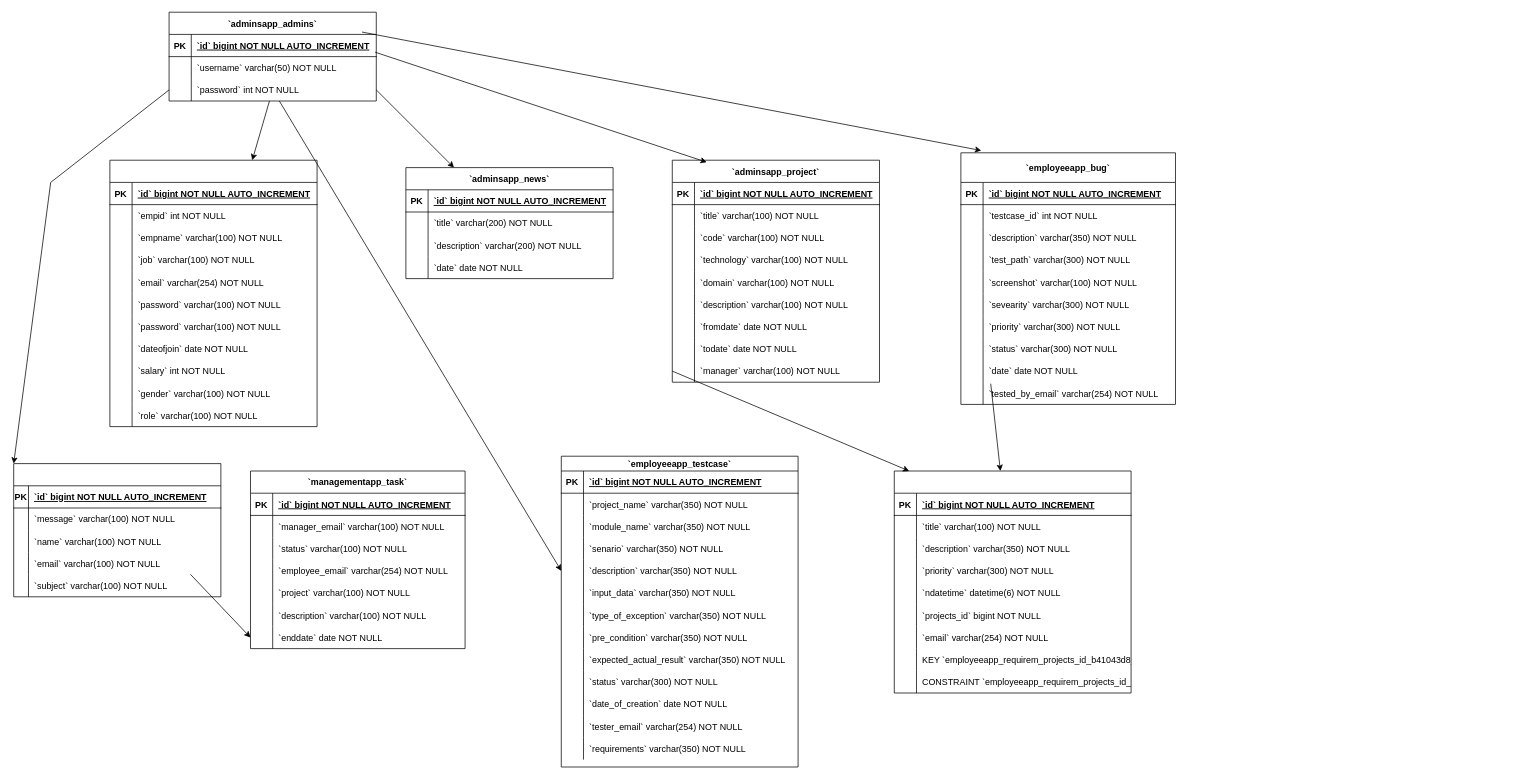
Some shapes in this 1534 by 779 pixel diagram are drawn without their labels. Each missing label, with the box of its shape:
`adminsapp_employee`: (109, 159, 317, 427)
`employeeapp_requirements`: (894, 470, 1131, 693)
`managementapp_contact`: (13, 463, 221, 597)
